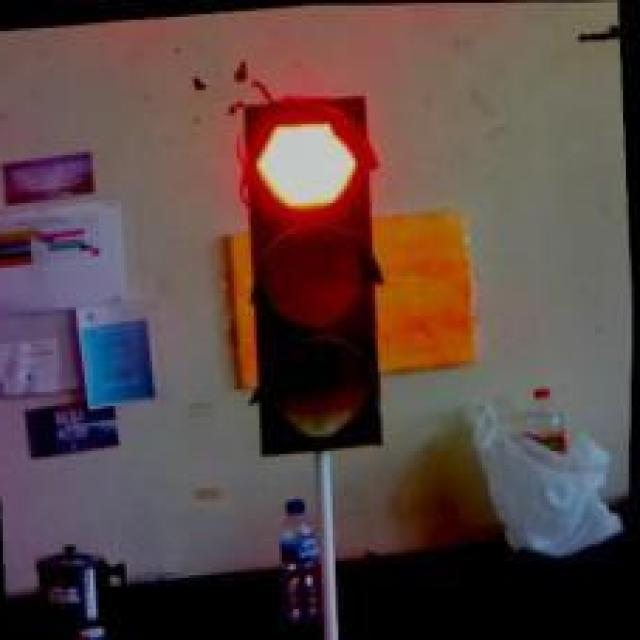Lampu Merah: (236, 96, 390, 451)
